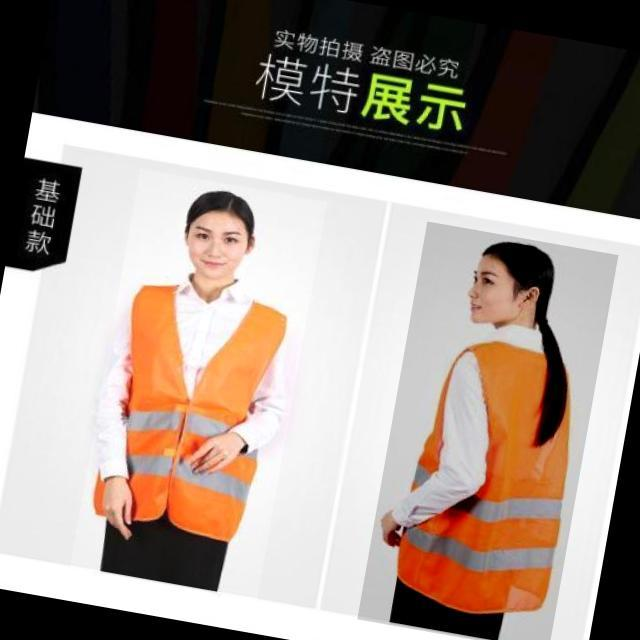Person: (368, 195, 611, 640), (79, 153, 307, 601)
Safety Vest: (379, 336, 590, 621), (93, 275, 287, 544)
bare-arms: (174, 426, 251, 492), (90, 474, 149, 538), (383, 500, 411, 558)
no-helmet: (182, 185, 258, 226), (476, 235, 560, 271)
